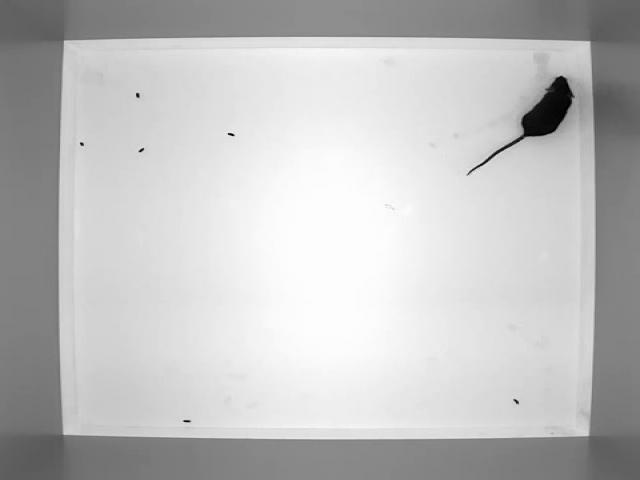Tikus: (464, 68, 578, 180)
